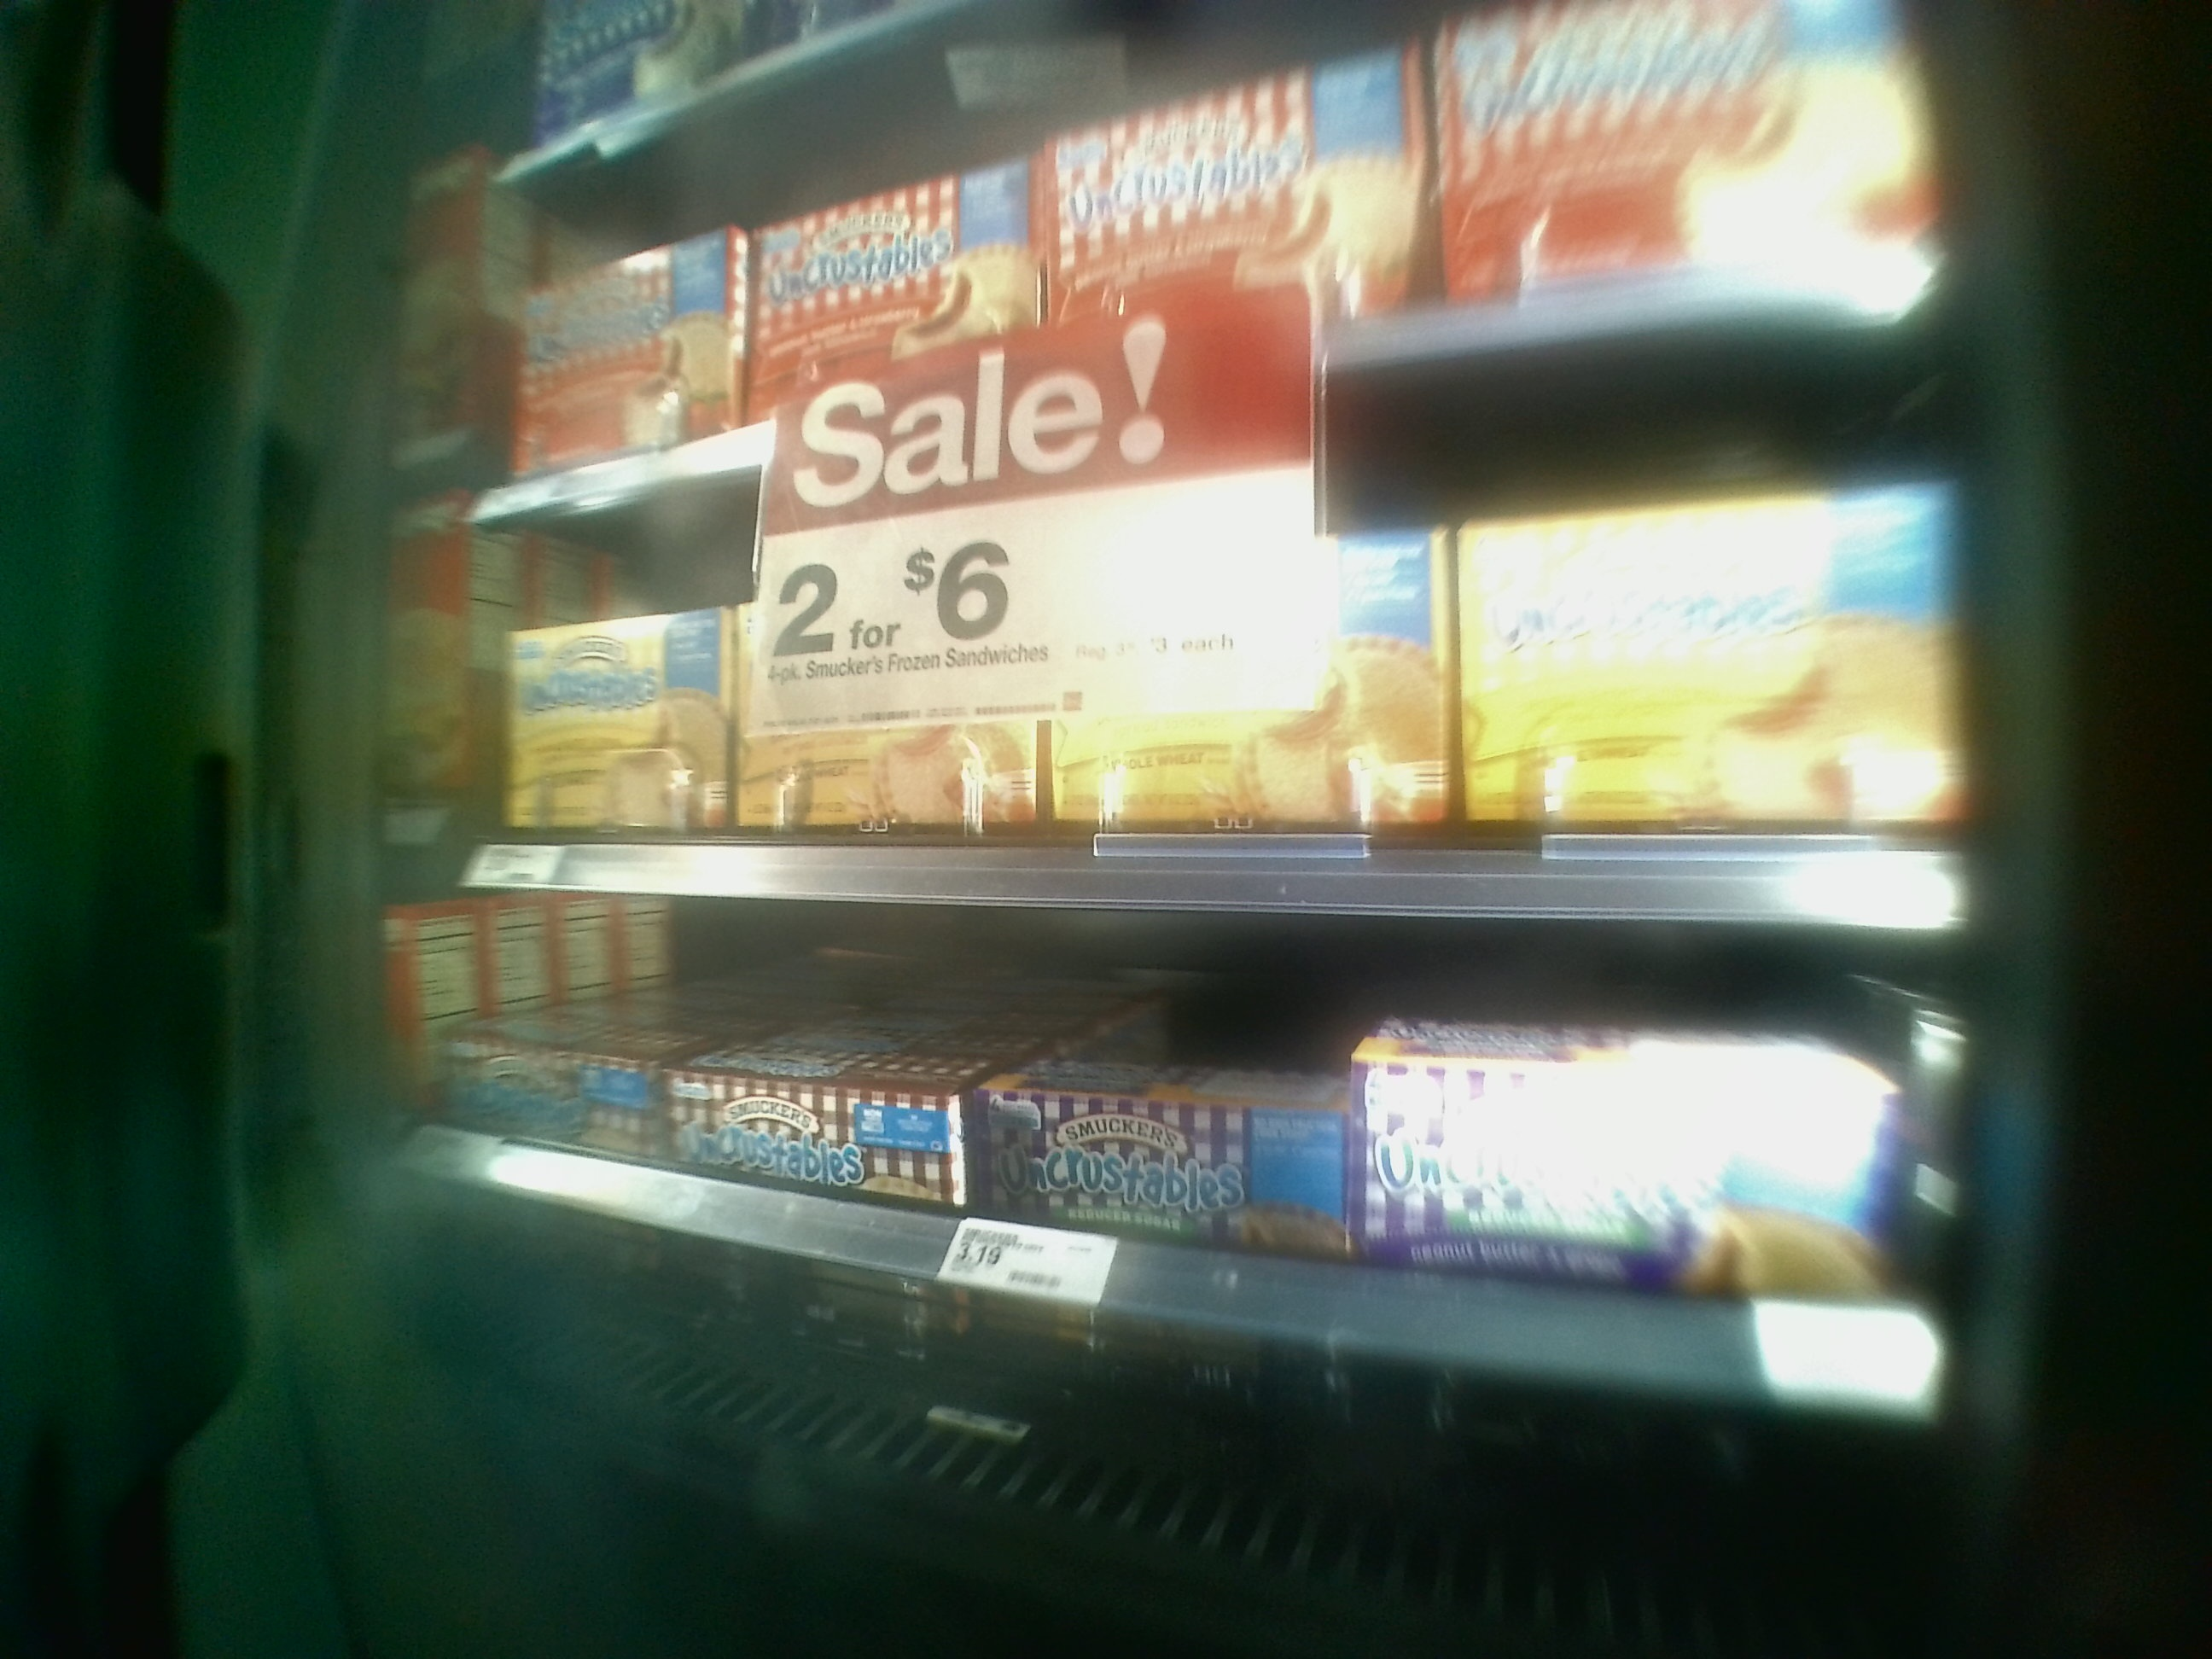shelf: (444, 497, 1982, 939)
